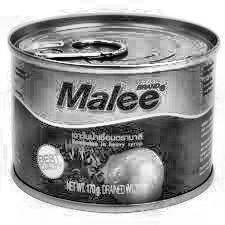can: (4, 8, 224, 218)
